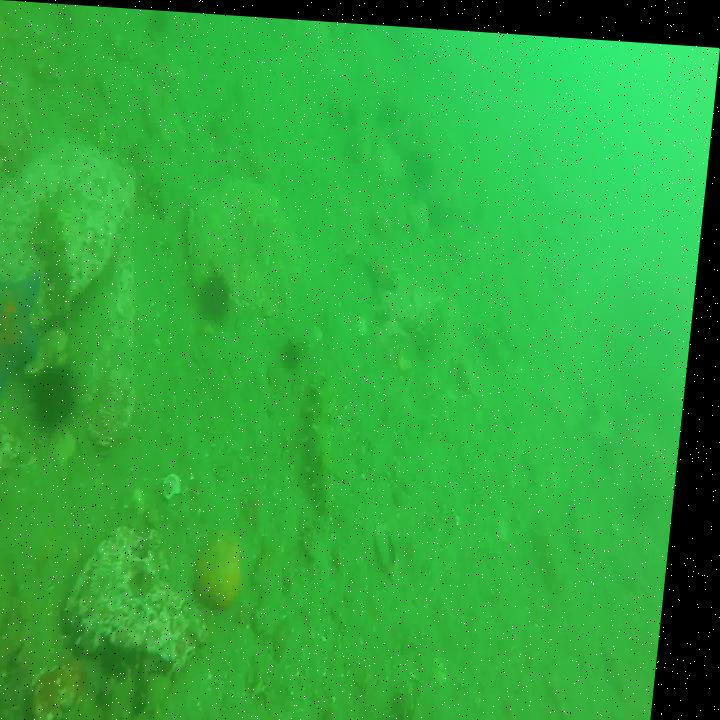echinus: (34, 356, 91, 427), (204, 260, 244, 321), (109, 637, 145, 678), (283, 331, 314, 371)
holothurian: (305, 354, 356, 506), (31, 201, 87, 321), (130, 138, 176, 218), (546, 512, 578, 586), (404, 670, 442, 720)
starfish: (0, 268, 54, 409)
